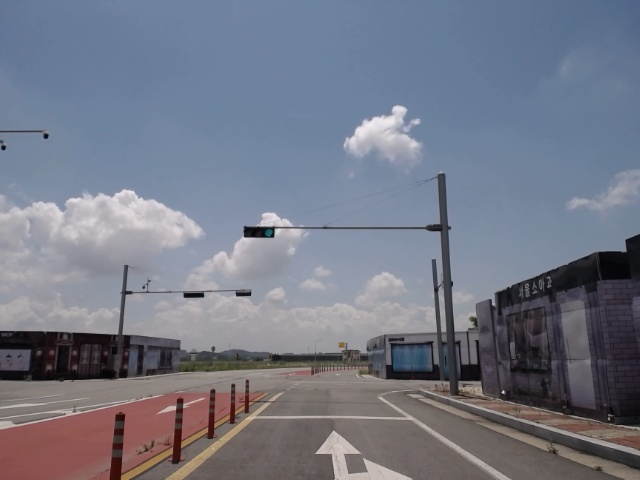green_3: (244, 227, 273, 237)
